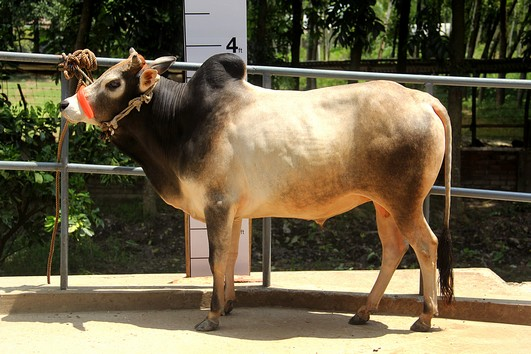cow: (54, 43, 456, 331)
